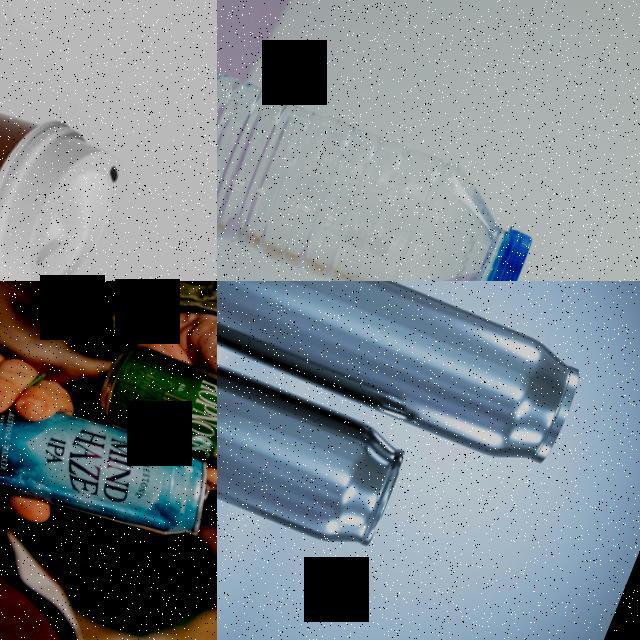bottle: (217, 59, 549, 281)
can: (217, 281, 593, 483), (217, 327, 415, 565), (0, 367, 217, 566), (87, 333, 217, 515)
cup: (0, 0, 135, 281)
